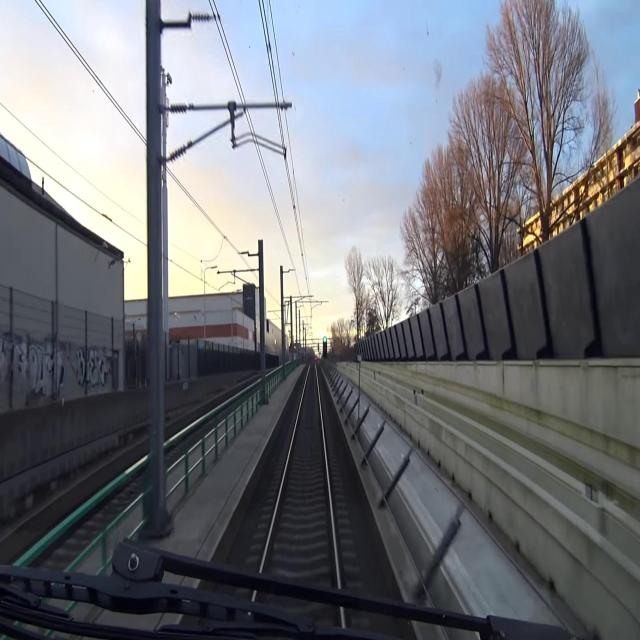rail-track: (264, 362, 335, 580)
